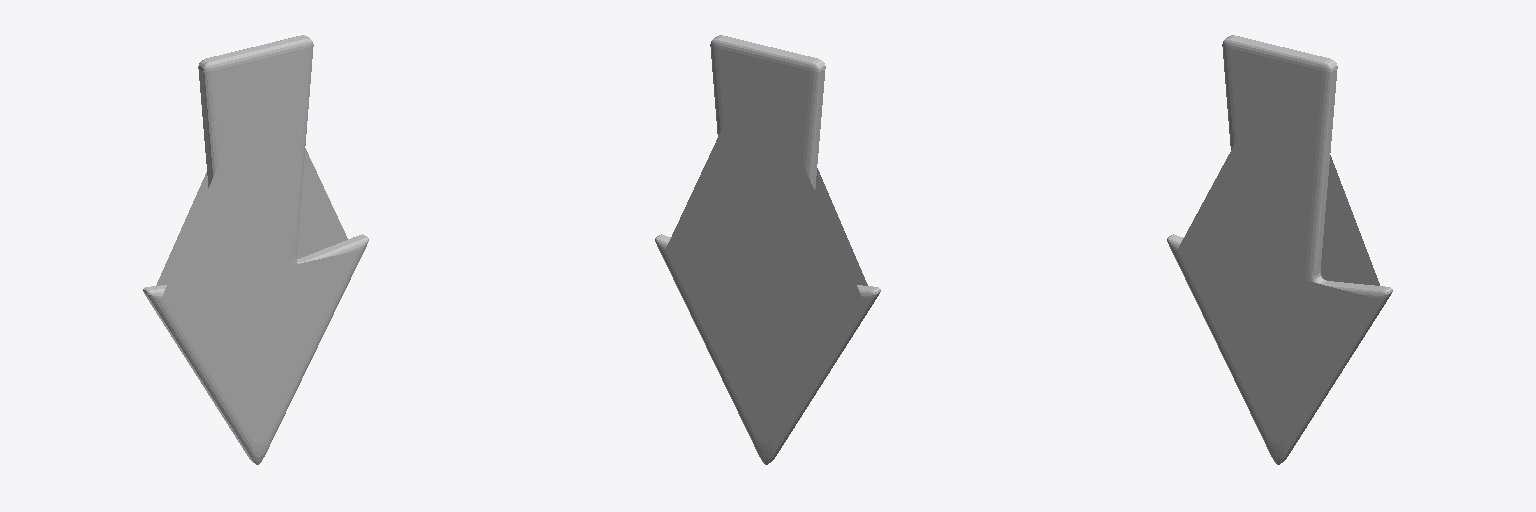
The model's file is arrow.obj.
3 renders of one model, left to right at view 1: azimuth 30°, elevation 25°; view 2: azimuth 150°, elevation 25°; view 3: azimuth 330°, elevation 25°, orthographic.
Visible parts, largest first — view 1: Arrow; view 2: Arrow; view 3: Arrow.
Part boxes in pixels (bbox=[...]): Arrow: bbox=[143, 35, 368, 464]; Arrow: bbox=[655, 35, 880, 464]; Arrow: bbox=[1167, 35, 1392, 464].
Bounding box in the file's own units: 0.3222 × 0.575 × 0.0212.